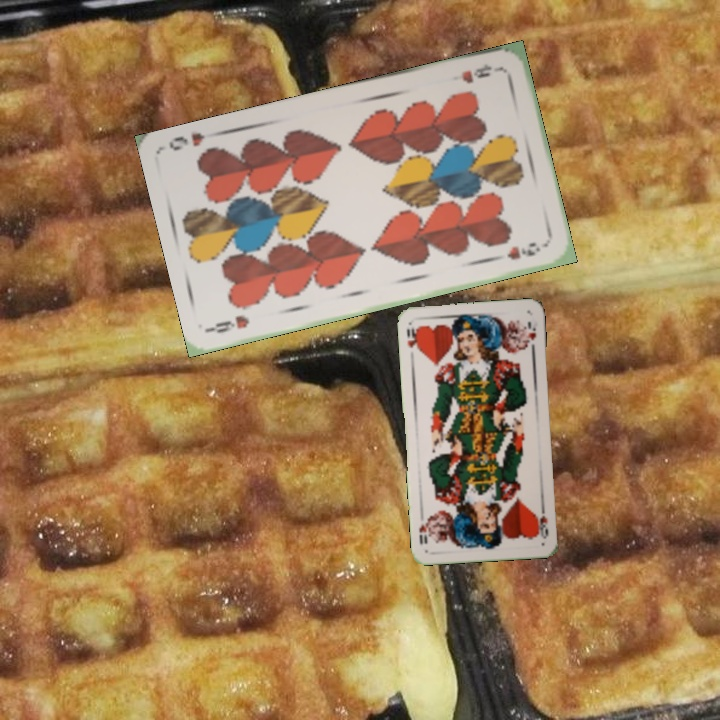H9: (457, 59, 503, 87), (207, 311, 252, 336)
HO: (533, 501, 551, 542), (403, 324, 421, 355)
